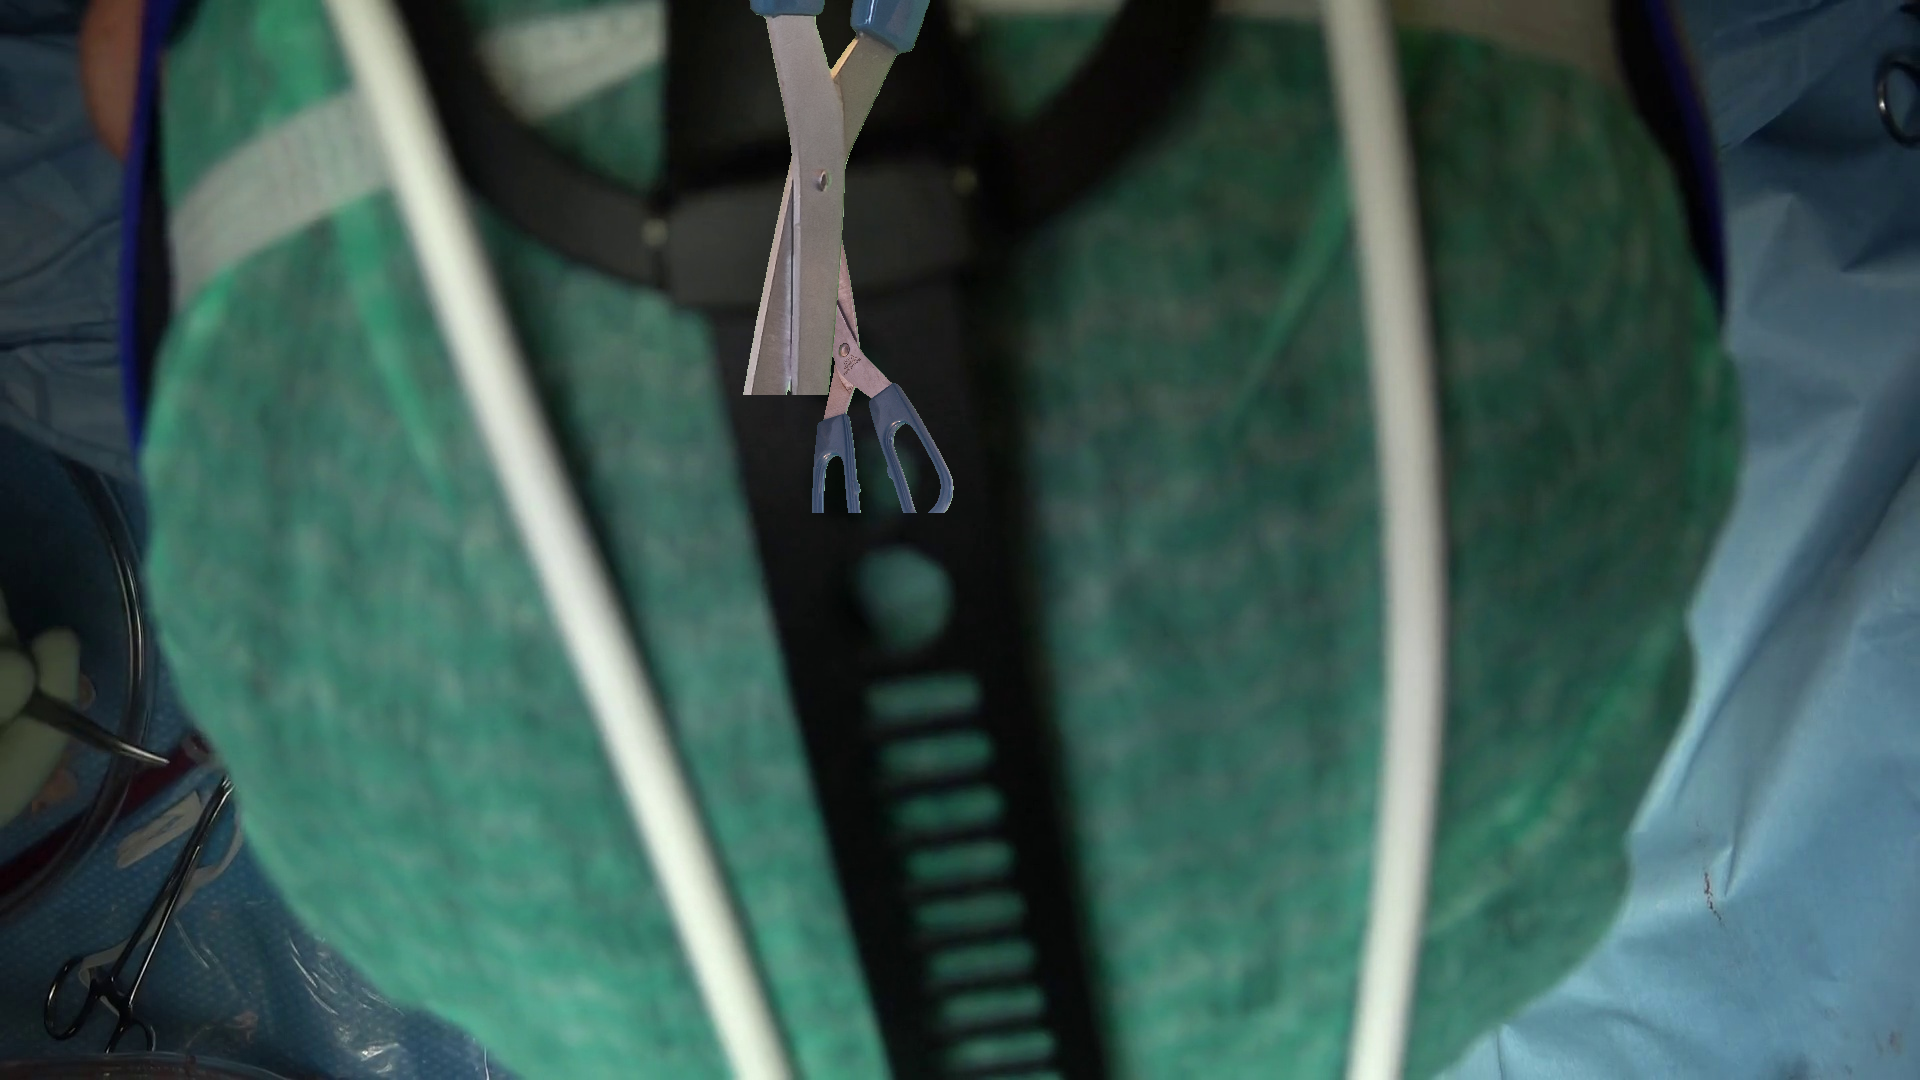scissors: (742, 0, 928, 394), (812, 240, 953, 512)
